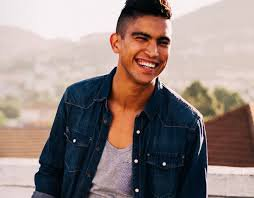noMask: (107, 3, 176, 88)
